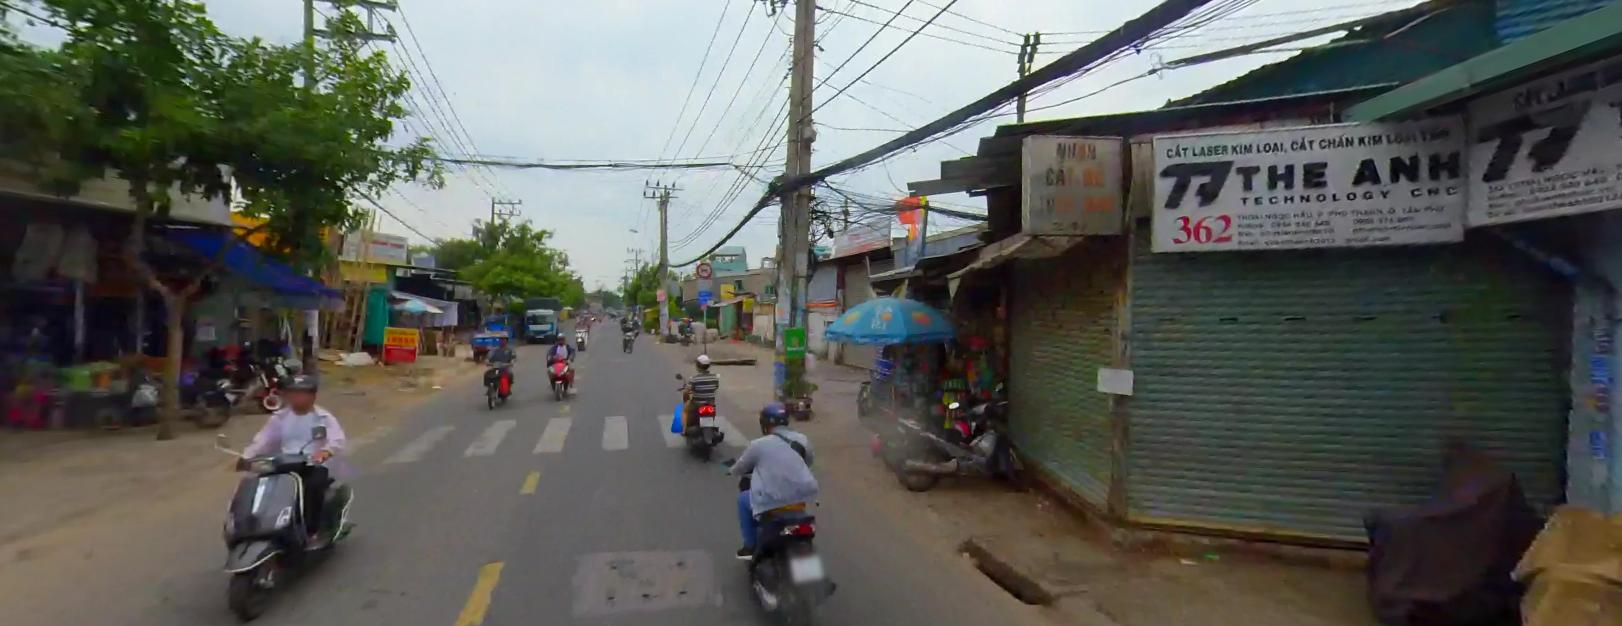Cam con lai: (696, 261, 711, 276)
